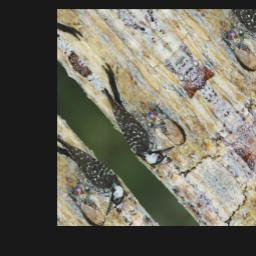Woodpecker: (78, 56, 186, 173)
